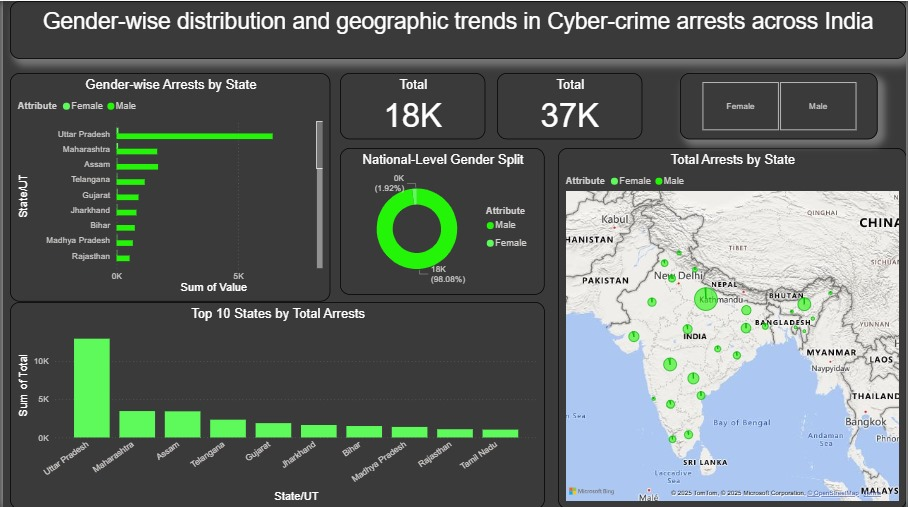

The page's visual inventory and layout, read from the dashboard file:
{"tool":"powerbi","page":{"name":"Arrest Statistics","canvas":[1280,720],"ordinal":3},"visuals":[{"type":"textbox","box":[10,0,1270,82],"z":0},{"type":"clusteredBarChart","title":"Gender-wise Arrests by State","fields":{"Y":["Sum(Arrest.Value)"],"Category":["Arrest.State/UT"],"Series":["Arrest.Attribute"]},"box":[10,102,454,324],"z":1000},{"type":"card","title":"Total","fields":{"Values":["Sum(Arrest.Total)"]},"box":[700,102,206,94],"z":2000},{"type":"card","title":"Total","fields":{"Values":["Sum(Arrest.Value)"]},"box":[478,102,206,94],"z":3000},{"type":"donutChart","title":"National-Level Gender Split","fields":{"Y":["Sum(Arrest.Value)"],"Category":["Arrest.Attribute"]},"box":[478,208,290,208],"z":4000},{"type":"map","title":"Total Arrests by State","fields":{"Category":["Arrest.State/UT"],"Size":["Sum(Arrest.Value)"],"Series":["Arrest.Attribute"]},"box":[786,208,494,512],"z":5000},{"type":"columnChart","title":"Top 10 States by Total Arrests","fields":{"Category":["Arrest.State/UT"],"Y":["Sum(Arrest.Total)"]},"box":[10,426,758,294],"z":6000},{"type":"slicer","fields":{"Values":["Arrest.Attribute"]},"box":[960,102,280,94],"z":7000}]}

Visuals, with their boxes in screenshot pixels (x1, y1, x2, y2), scaled from the page's 1280x720 canvas onto the 908x507 screenshot:
textbox: 7, 0, 907, 58
"Gender-wise Arrests by State" clusteredBarChart: 7, 72, 329, 300
"Total" card: 497, 72, 643, 138
"Total" card: 339, 72, 485, 138
"National-Level Gender Split" donutChart: 339, 146, 545, 293
"Total Arrests by State" map: 558, 146, 907, 506
"Top 10 States by Total Arrests" columnChart: 7, 300, 545, 506
slicer - Arrest.Attribute: 681, 72, 880, 138
